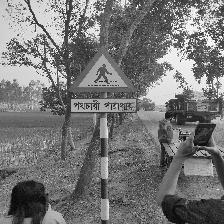Pedestrian-crossing: (68, 47, 138, 113)
